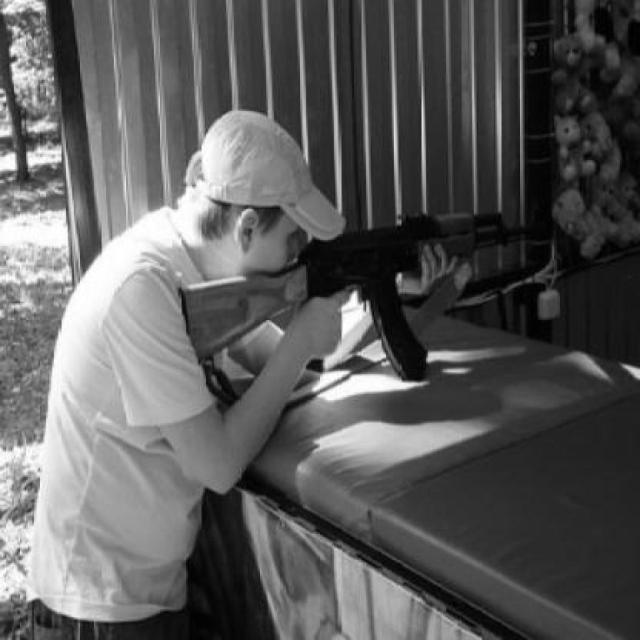weapon: (180, 211, 555, 382)
